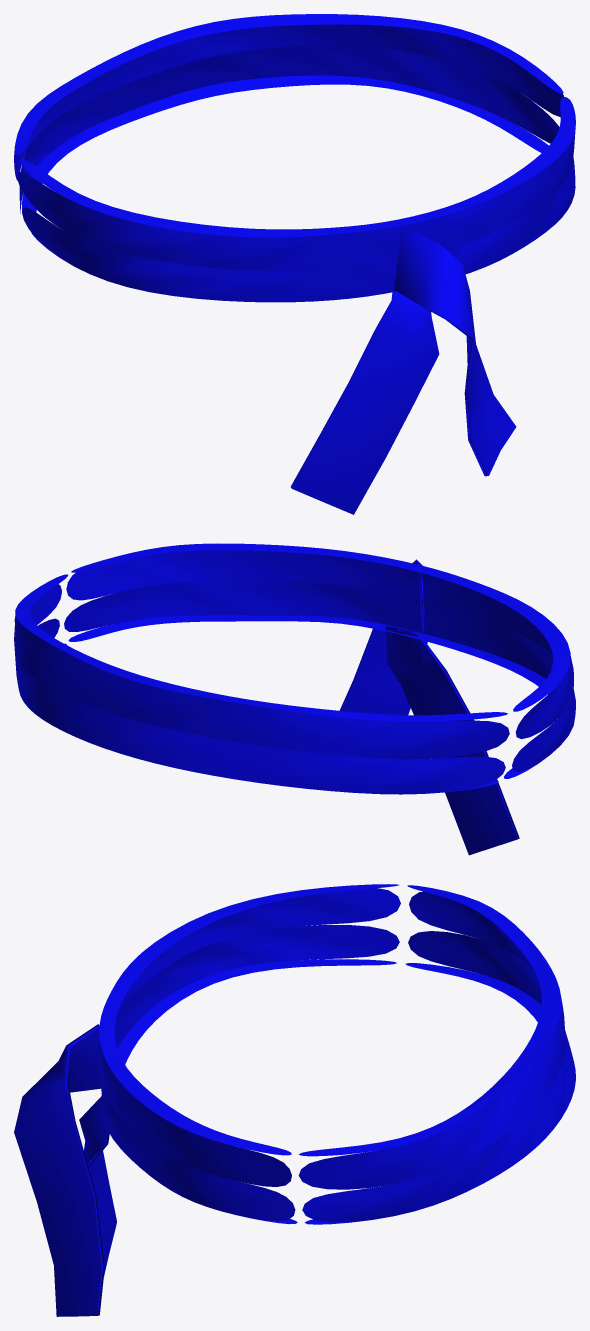
The model's file is belt-blue.glb.
3 renders of one model, top to bottom at view 1: azimuth 30°, elevation 25°; view 2: azimuth 150°, elevation 25°; view 3: azimuth 270°, elevation 25°, orthographic. The views are drawn at different scales.
Parts seen in each view (by area): view 1: belt.001, belt2.001, belt3.001; view 2: belt.001, belt2.001, belt3.001; view 3: belt.001, belt3.001, belt2.001.
Boxes of the visible parts, left/top/right/bottom form: belt.001: left=14, top=14, right=575, bottom=302; belt2.001: left=290, top=291, right=439, bottom=514; belt3.001: left=394, top=227, right=516, bottom=476; belt.001: left=14, top=543, right=575, bottom=794; belt2.001: left=386, top=626, right=519, bottom=855; belt3.001: left=339, top=559, right=427, bottom=715; belt.001: left=99, top=884, right=575, bottom=1224; belt3.001: left=14, top=1024, right=104, bottom=1316; belt2.001: left=79, top=1096, right=116, bottom=1275.
Size of the model in its own units: 0.3013 by 0.176 by 0.2804.
